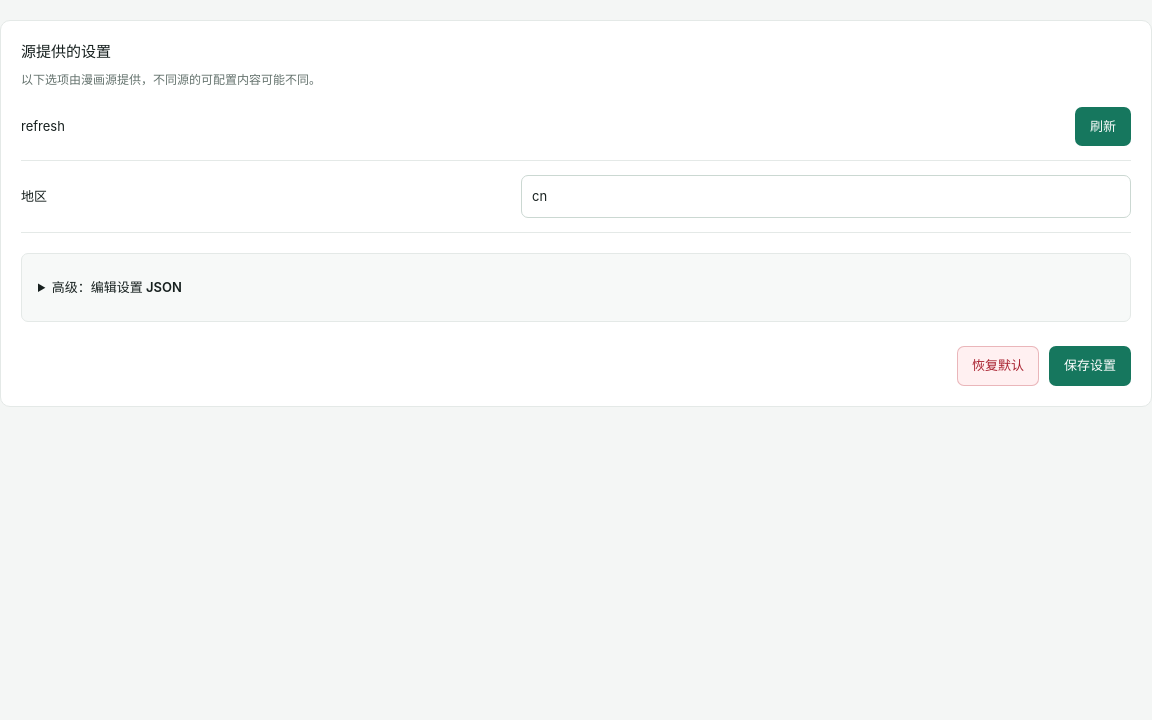
Scenario: lets an expired confirmation recover by invoking the setting again
The width and height of the screenshot is (1152, 720).
Click the button "刷新": (1103, 127) [1075, 107, 1131, 146]
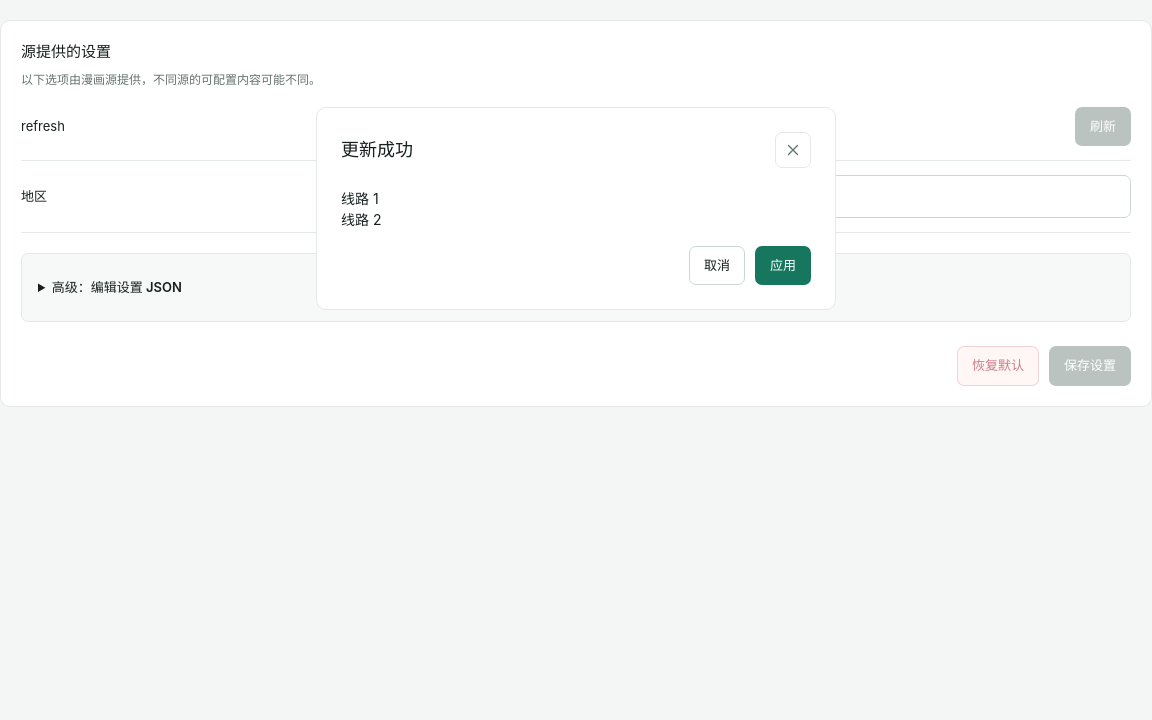
Click the button "应用": (783, 266) [755, 246, 811, 285]
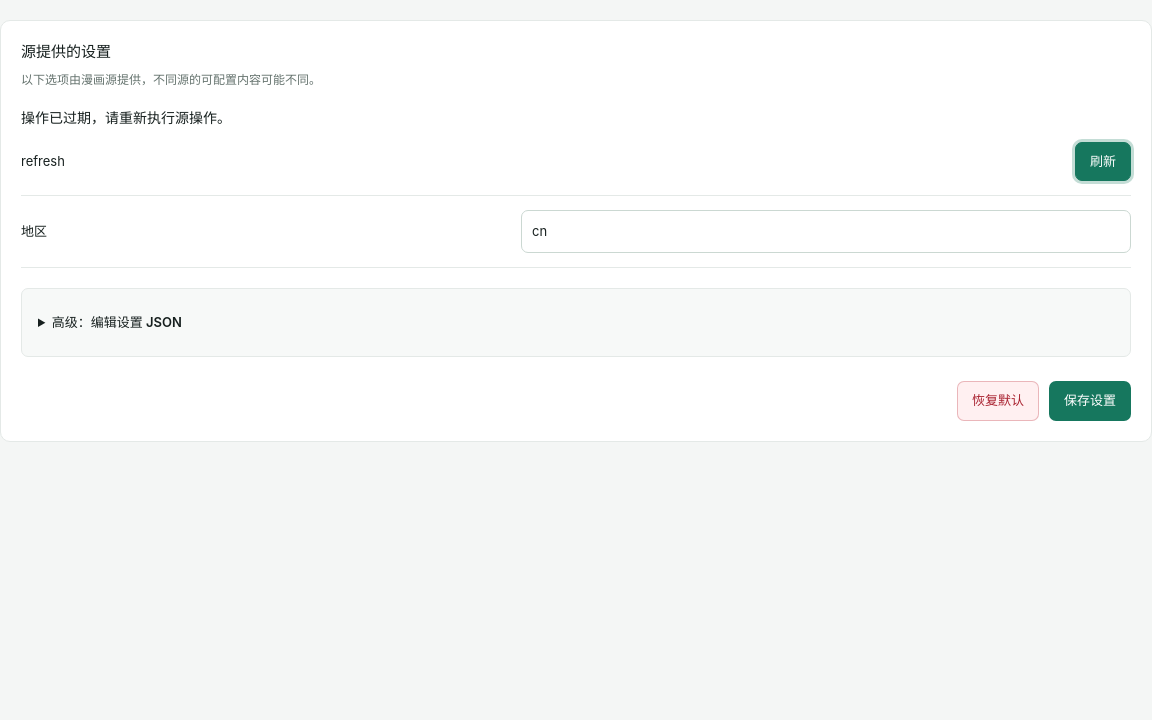
Result: the message "操作已过期，请重新执行源操作。" is shown at [21, 109, 231, 126]
Click the button "刷新": (1103, 162) [1075, 142, 1131, 181]
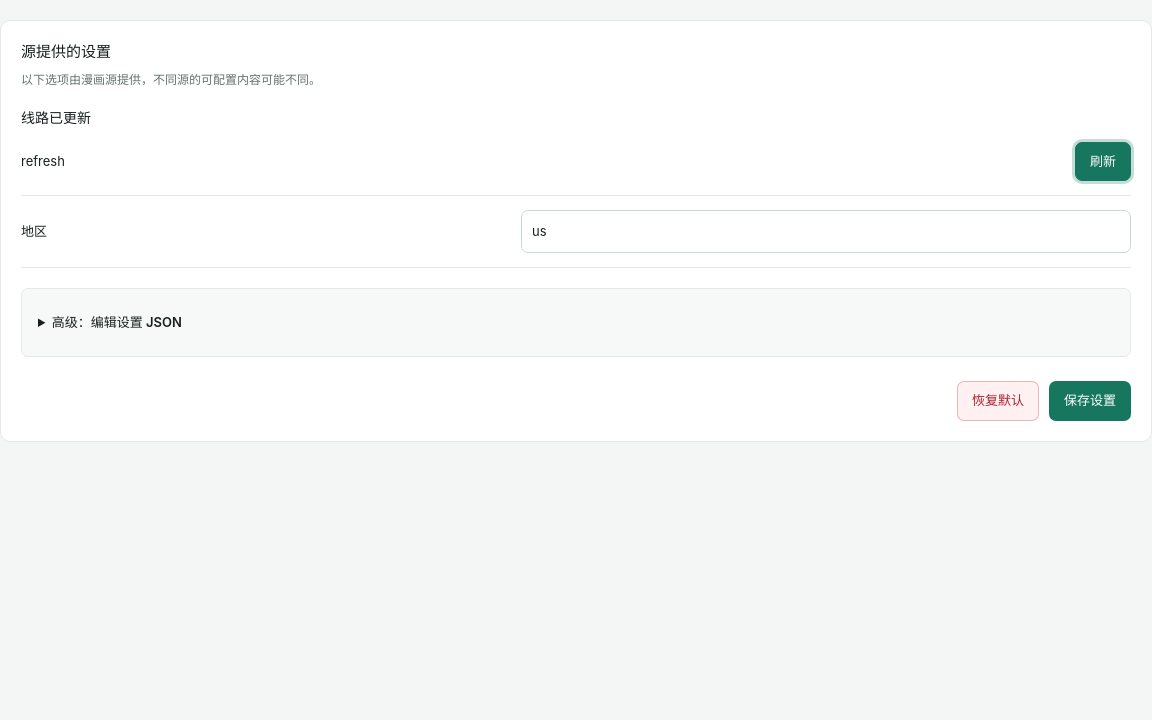
Result: the message "操作已过期，请重新执行源操作。" is gone
Result: the text "线路已更新" is shown at [21, 109, 91, 126]
